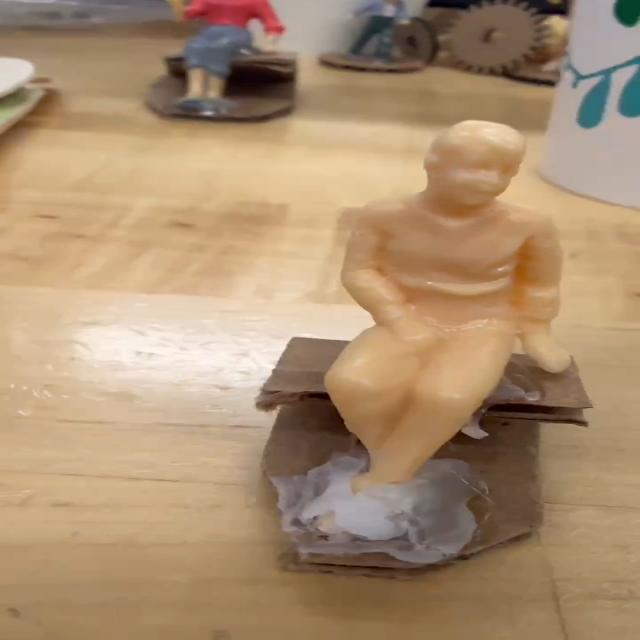Unauthorized: (328, 118, 572, 504)
